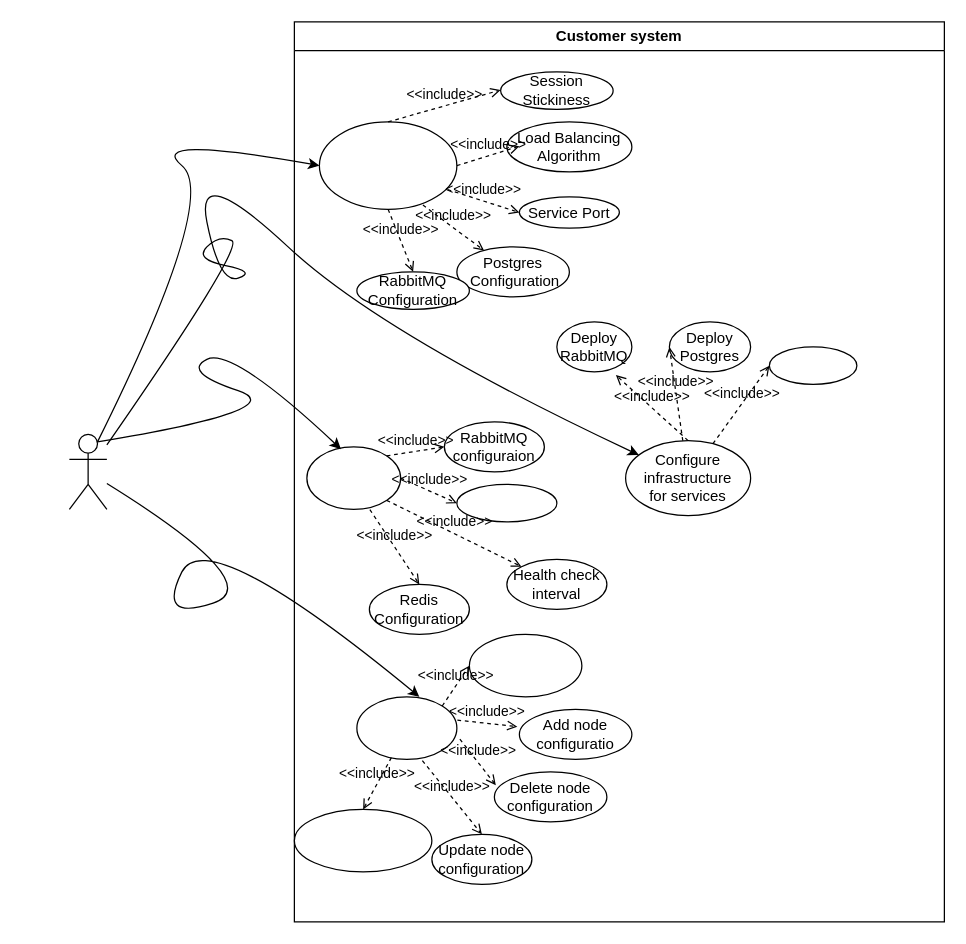
This 966x944 diagram has some shape labels left out. Each missing label, with the box of its shape:
Add service url: (456, 483, 557, 522)
Application Provider: (68, 433, 107, 509)
Configure instance [n]: (306, 446, 401, 509)
Configure Load Balancer central server: (318, 121, 457, 209)
Deploy Redis: (768, 346, 857, 384)
Get central shared configuration: (293, 808, 432, 872)
Manage configurations: (356, 696, 457, 759)
Retrieve nodes configurations: (468, 633, 582, 697)
